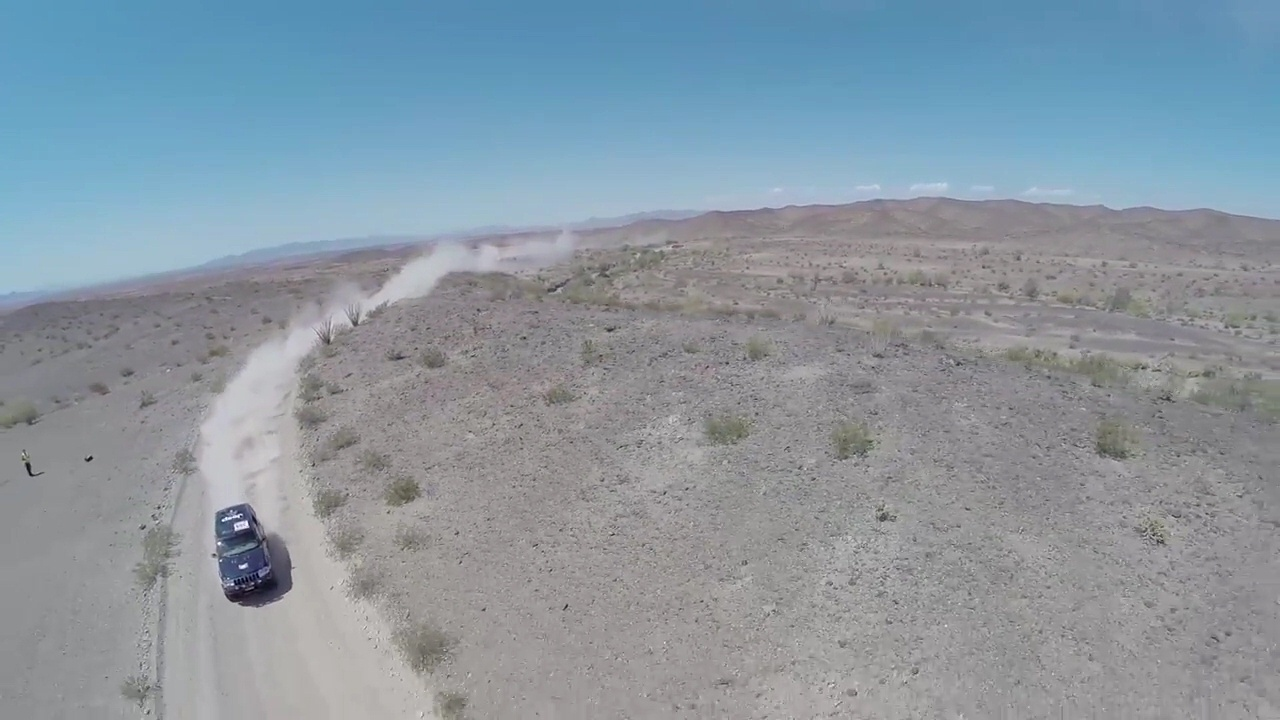araba: (209, 502, 278, 604)
insan: (19, 447, 38, 479)
